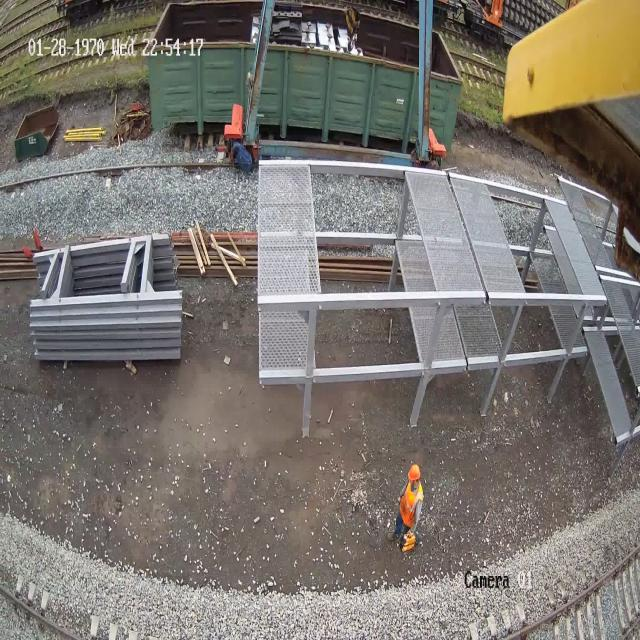Helmet: (408, 464, 420, 482)
Person: (394, 463, 424, 552)
